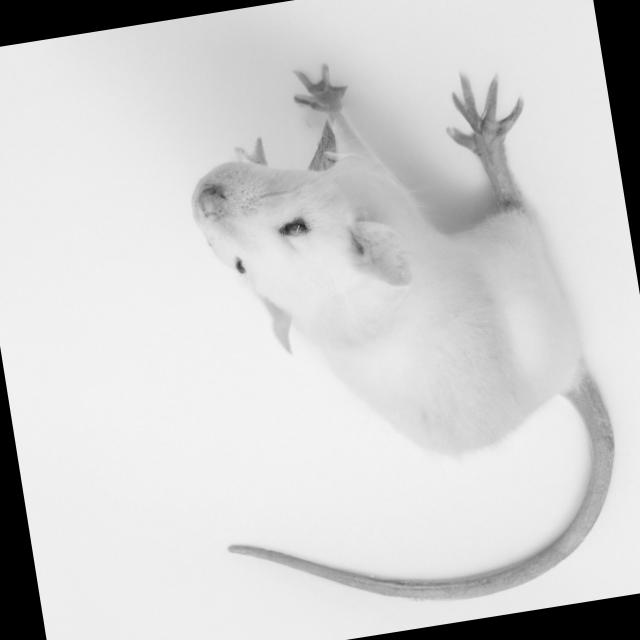rodent: (144, 34, 626, 511)
